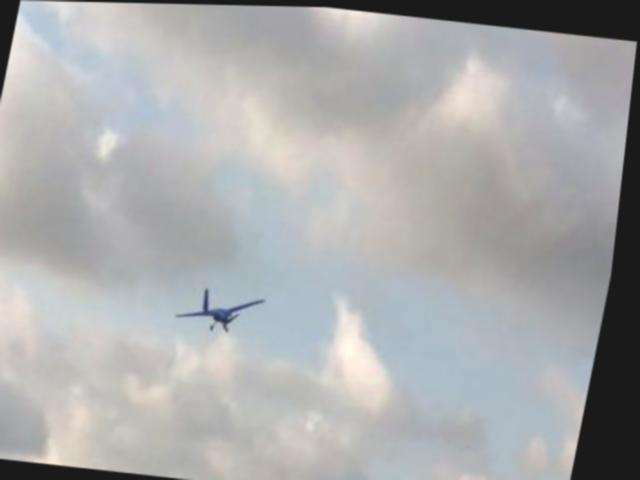uav: (171, 272, 278, 354)
